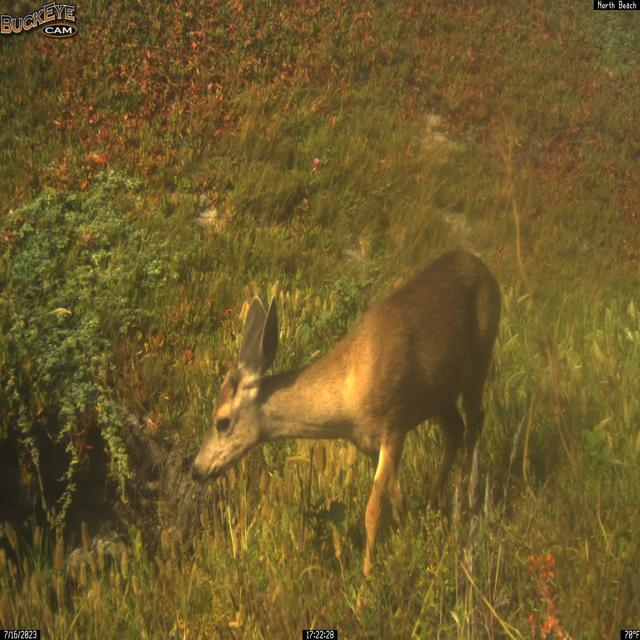deer: (190, 248, 503, 585)
